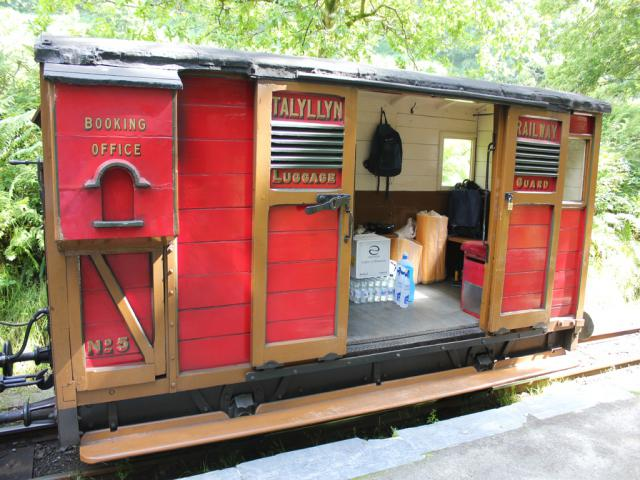Door-handle: (342, 202, 351, 242), (506, 190, 514, 207)
